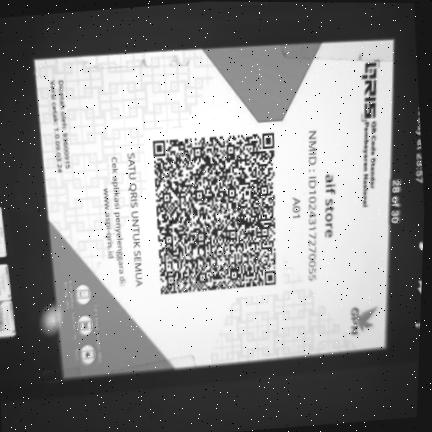Cara Pakai QRIS: (58, 272, 106, 375)
Cek Aplikasi Penyelenggara: (96, 148, 131, 295)
Dicetak Oleh: (57, 76, 73, 173)
Logo GPN: (345, 300, 383, 343)
Logo dan deskripsi QRIS: (356, 51, 386, 217)
Nama Merchant: (322, 170, 339, 243)
National Merchant ID: (305, 125, 320, 289)
QR Code: (150, 126, 279, 299)
Slogan: (124, 147, 146, 292)
Terminal ID: (289, 191, 303, 225)
Versi Cetak: (47, 77, 64, 179)
